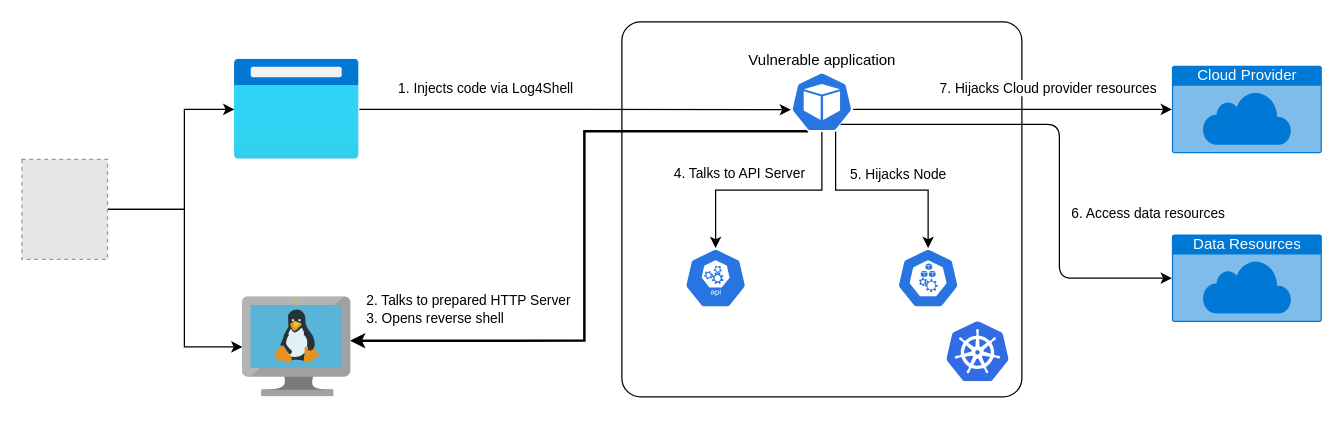
Image size: 1344x445. Some labels were removed from this diagram. Grey dashed boxes stand in for pictures. The shapes that lost their labels are listed below. From the top down, each one's centre as x and y in pixels, then its label:
At (x=296, y=109): "Browser".
At (x=296, y=346): "Attacker machine".
